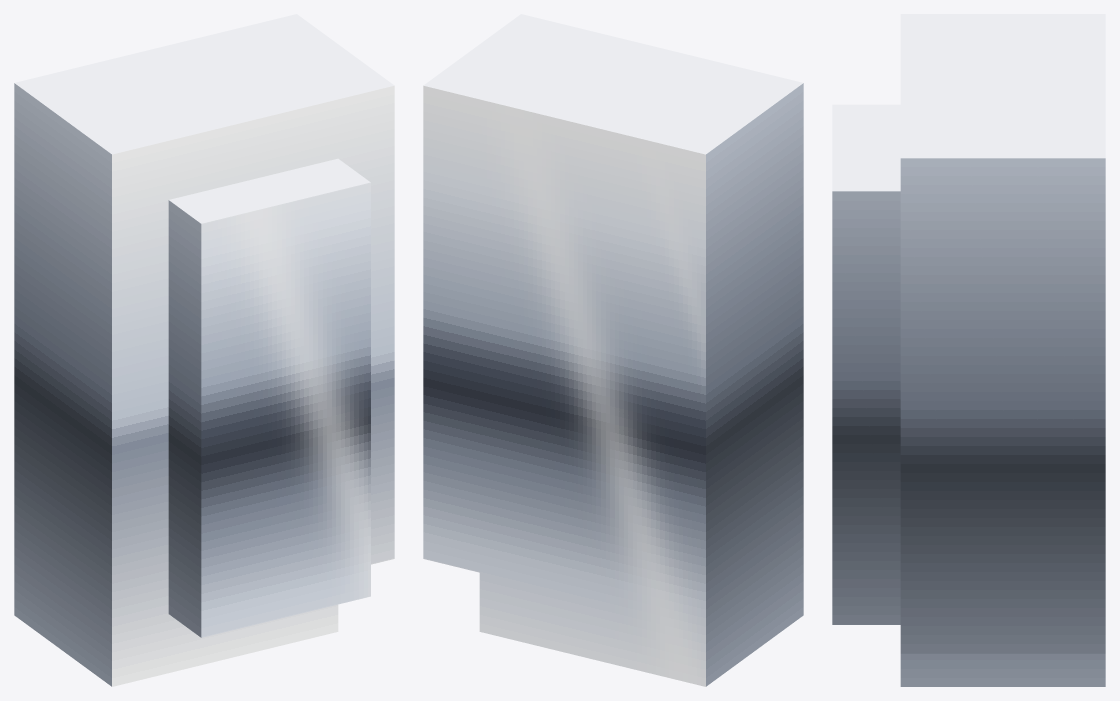
Rendered from apostrophe.glb.
The picture shows the model from 3 angles, left to right: view 1: azimuth 30°, elevation 25°; view 2: azimuth 150°, elevation 25°; view 3: azimuth 270°, elevation 25°; orthographic projection. The views are drawn at different scales.
Parts seen in each view (by area): view 1: Letter apostrophe; view 2: Letter apostrophe; view 3: Letter apostrophe.
Boxes of the visible parts, x1,y1,x2,y2 form: Letter apostrophe: (14,14,394,686); Letter apostrophe: (423,14,803,686); Letter apostrophe: (832,14,1105,686).
Size of the model in its own units: 0.3125 by 0.5625 by 0.25.
1 material, 1 textured.
